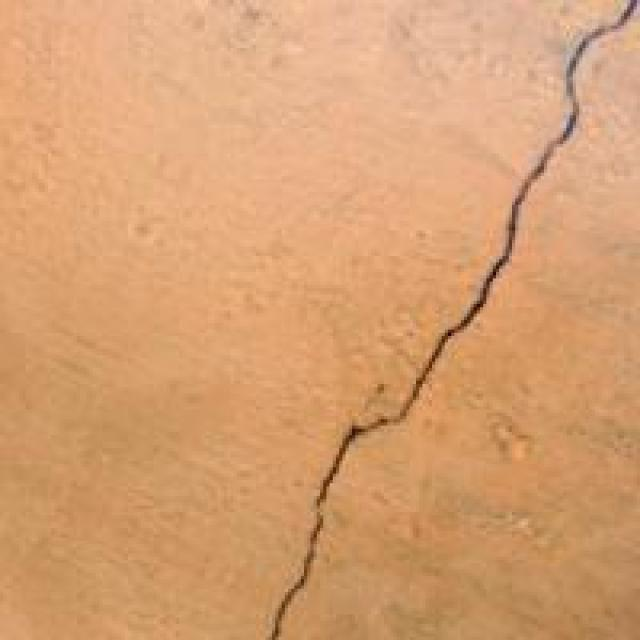crack: (243, 6, 637, 637)
